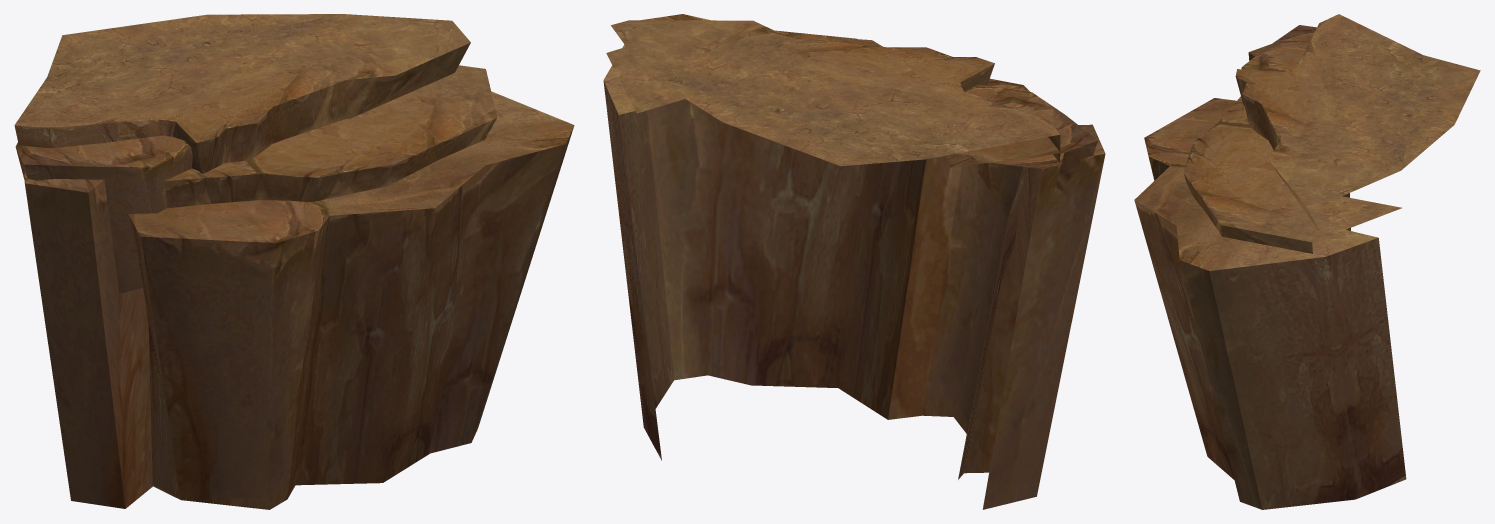
File: yw_yanmenguan_fengbian01.FBX
3 views of the same model, side by side, from view 1: azimuth 30°, elevation 25°; view 2: azimuth 150°, elevation 25°; view 3: azimuth 270°, elevation 25° (orthographic). The views are drawn at different scales.
Visible parts, largest first — view 1: yw_yanmenguan_fengbian01; view 2: yw_yanmenguan_fengbian01; view 3: yw_yanmenguan_fengbian01.
Part boxes in pixels (x1,y1,x2,y2): yw_yanmenguan_fengbian01: [14, 14, 574, 509]; yw_yanmenguan_fengbian01: [603, 14, 1105, 509]; yw_yanmenguan_fengbian01: [1134, 14, 1480, 509].
Size of the model in its own units: 1073 by 766 by 748.
